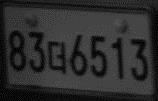1: (107, 35, 129, 80)
3: (129, 37, 150, 81), (26, 30, 47, 72)
5: (89, 33, 107, 77)
6: (69, 33, 89, 77)
8: (7, 28, 26, 71)
더: (46, 39, 68, 75)
